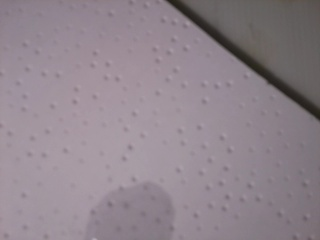Water_detected: (99, 183, 163, 240)
